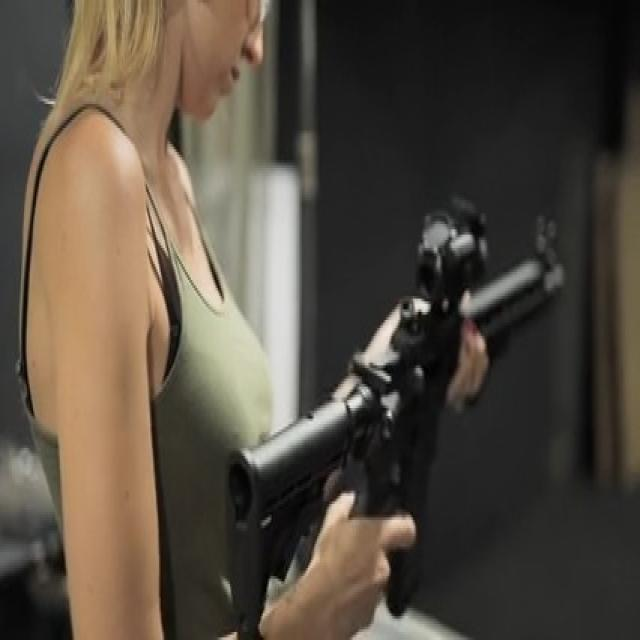Gun_Holder: (212, 201, 626, 640)
Person: (19, 0, 418, 640)
